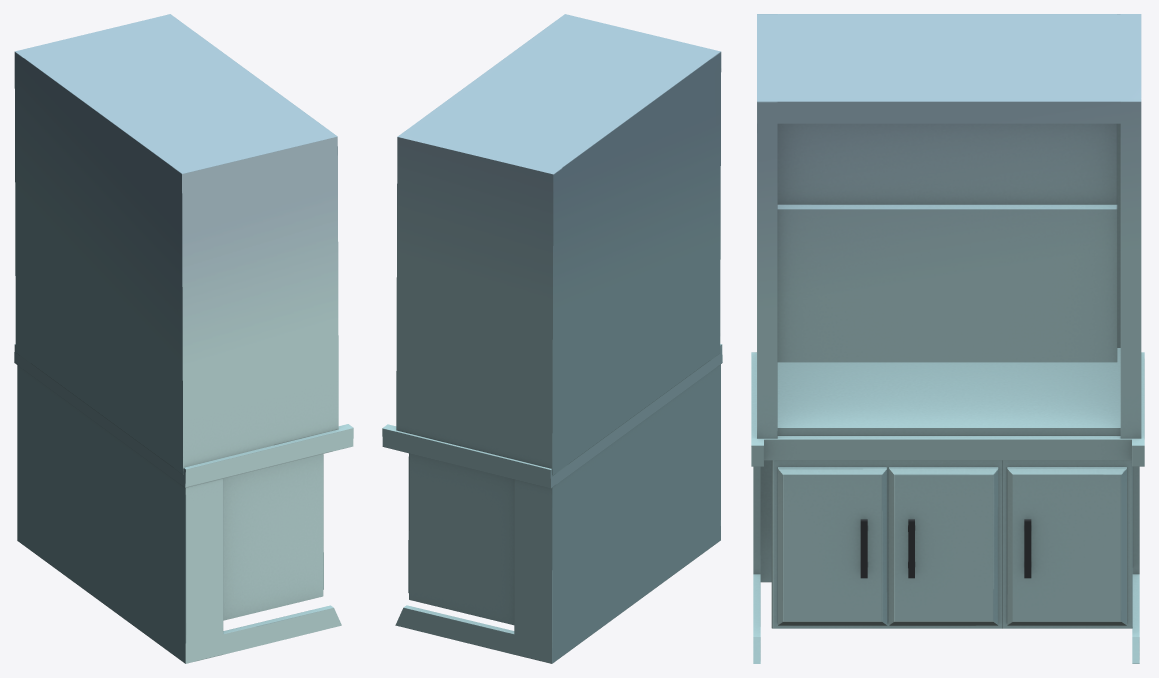
Rendered from st_cupboard.fbx.
The picture shows the model from 3 angles, left to right: view 1: azimuth 30°, elevation 25°; view 2: azimuth 150°, elevation 25°; view 3: azimuth 270°, elevation 25°; orthographic projection. The views are drawn at different scales.
Visible parts, largest first — view 1: st_cupboard; view 2: st_cupboard; view 3: st_cupboard.
Part boxes in pixels (left/top/right/bottom): st_cupboard: left=14, top=14, right=353, bottom=663; st_cupboard: left=382, top=14, right=722, bottom=663; st_cupboard: left=751, top=14, right=1144, bottom=663.
Size of the model in its own units: 105 by 290 by 184.
1 material, 1 textured.
